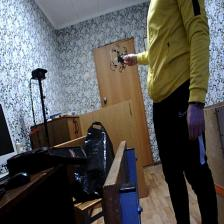drone: (111, 41, 131, 76)
